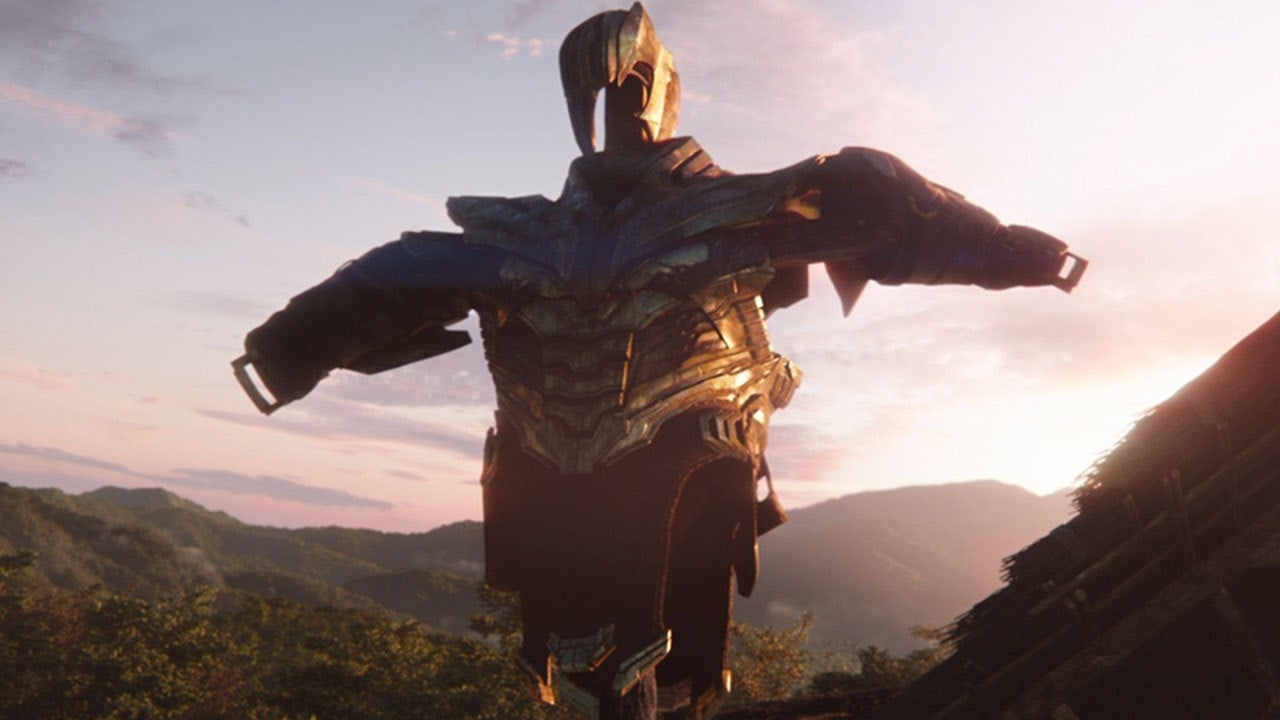person-like: (226, 3, 1092, 719)
